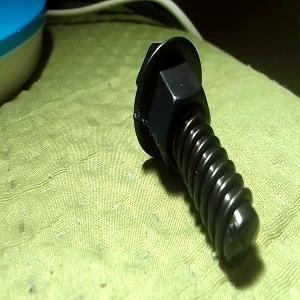parafuso: (132, 35, 262, 267)
